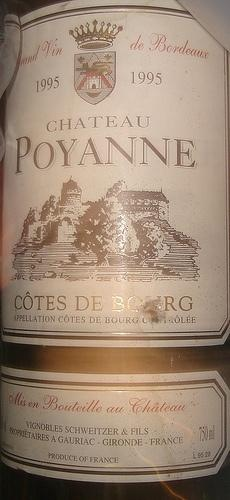bottle: (1, 1, 230, 500)
